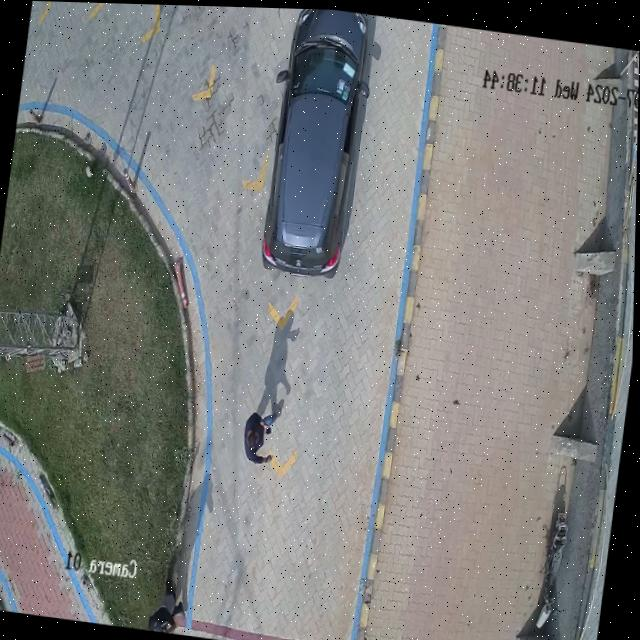car: (263, 7, 369, 274)
